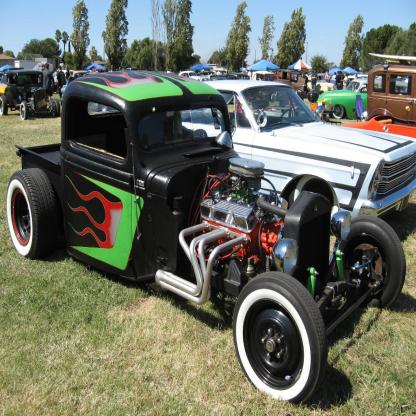Car: (1, 54, 416, 407), (180, 79, 416, 226), (318, 80, 412, 122), (3, 63, 62, 120), (368, 65, 416, 126)
